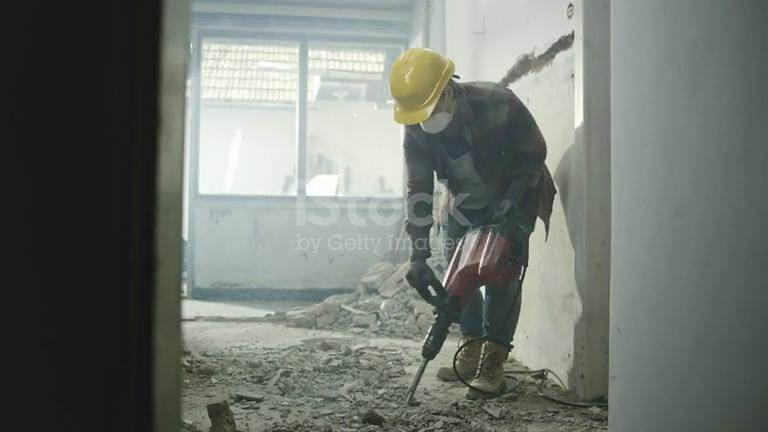helmet: (389, 46, 456, 129)
mask: (416, 102, 455, 136)
person: (387, 43, 559, 395)
